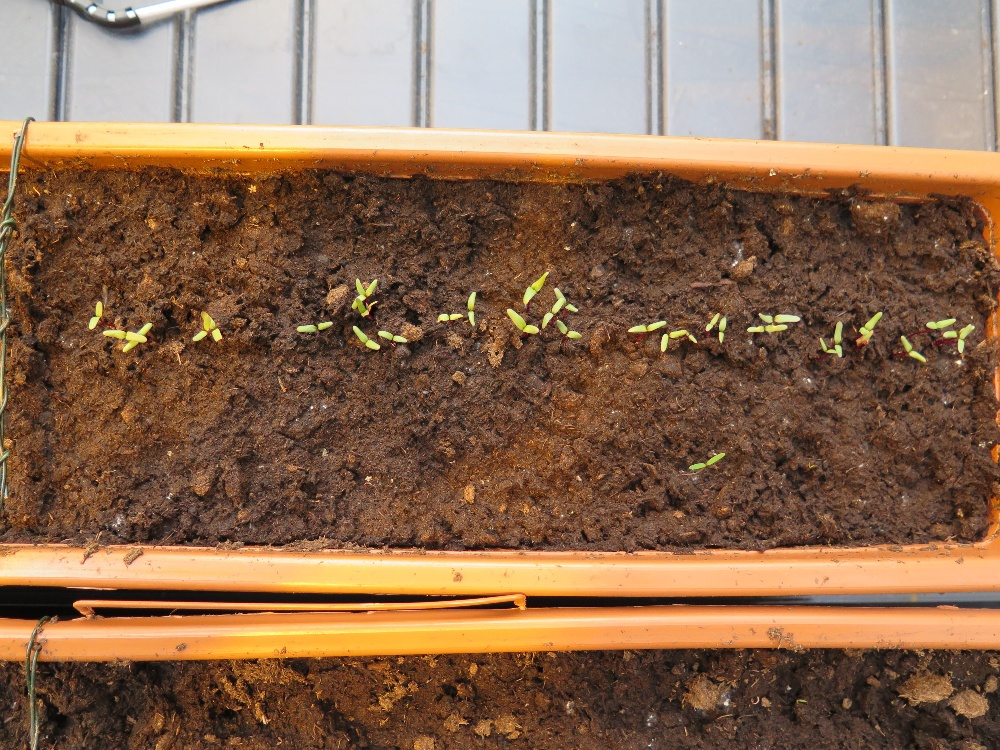crop: (198, 307, 225, 346), (944, 320, 974, 354), (99, 325, 149, 345), (522, 269, 549, 306), (121, 324, 153, 355), (505, 307, 539, 335), (351, 276, 378, 311), (899, 334, 926, 366), (187, 315, 214, 343), (858, 310, 883, 337), (627, 318, 668, 333), (833, 318, 848, 359), (757, 311, 801, 324), (555, 319, 582, 340), (87, 299, 104, 331), (661, 329, 685, 351), (295, 320, 334, 333), (376, 329, 408, 344), (924, 315, 958, 329), (745, 323, 787, 333), (466, 290, 477, 327), (817, 335, 836, 355), (436, 311, 463, 324), (703, 311, 718, 332), (356, 297, 370, 317), (718, 316, 727, 345)
weed: (687, 451, 726, 472)
